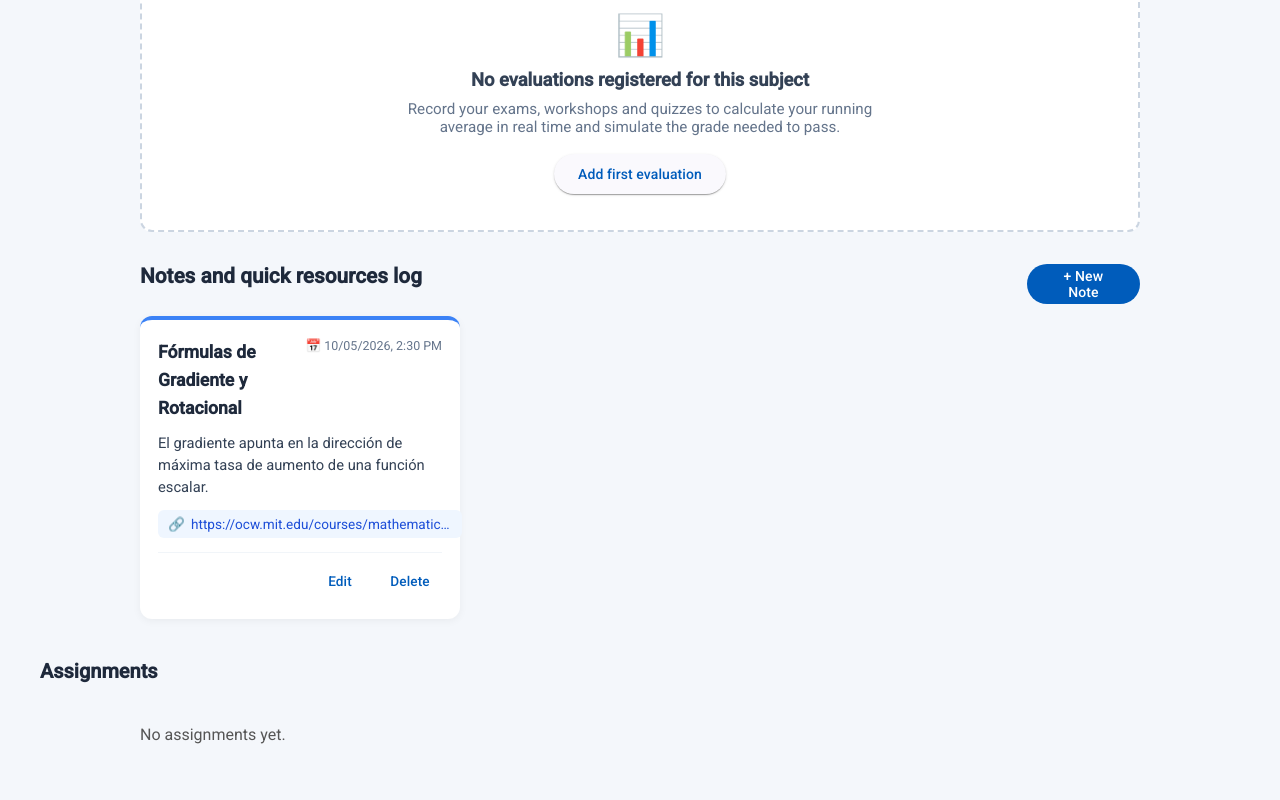
Test: F24: Bitácora de Apuntes y Recursos Rápidos por Asignatura (Frontend E2E, UI & a11y) › E2: Debería abrir el modal de edición y actualizar el contenido de un apunte existente
(page scrolled)
Check: the number of elements with class "note-card" is 1, box top-left (140, 316), bottom-right (460, 619)
Click the button "Edit" at (340, 581), box top-left (308, 561), bottom-right (372, 601)
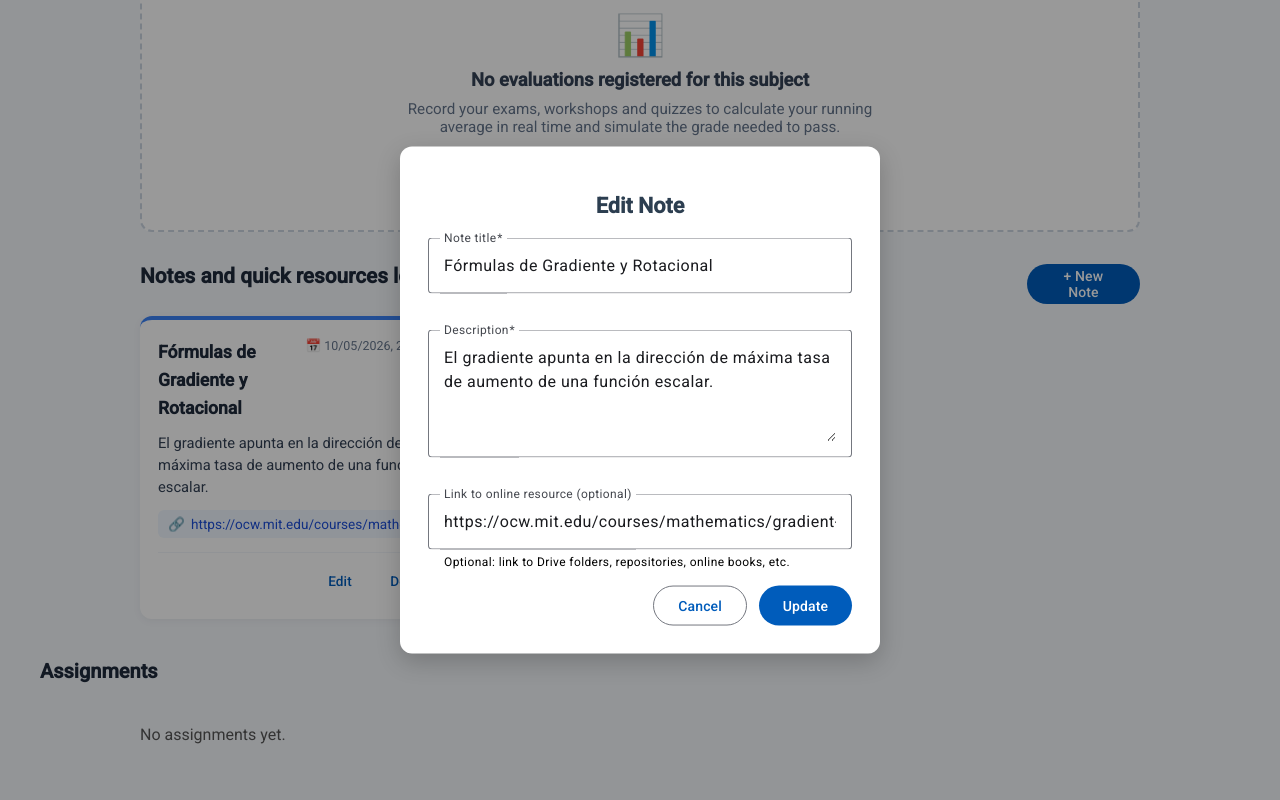
Check: the heading "Edit Note" is shown, box top-left (596, 192), bottom-right (684, 218)
Check: the field named "title" holds "Fórmulas de Gradiente y Rotacional", box top-left (444, 254), bottom-right (836, 278)
Replace the text in the text box named "content" with "Actualizado: Incluye el Teorema de Stokes y cálculo de flujo rotacional." at (640, 394), box top-left (444, 346), bottom-right (836, 442)
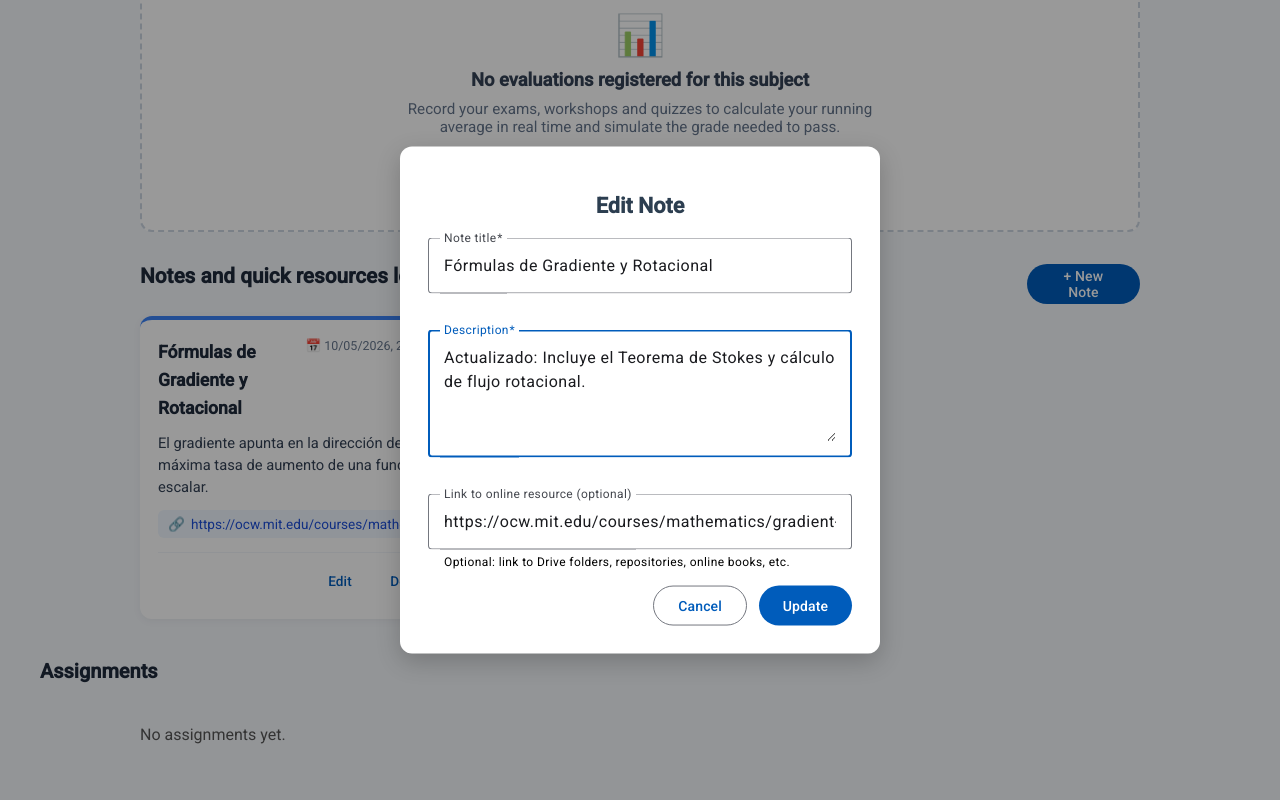
Click the submit button at (806, 606), box top-left (759, 586), bottom-right (852, 626)
(page scrolled)
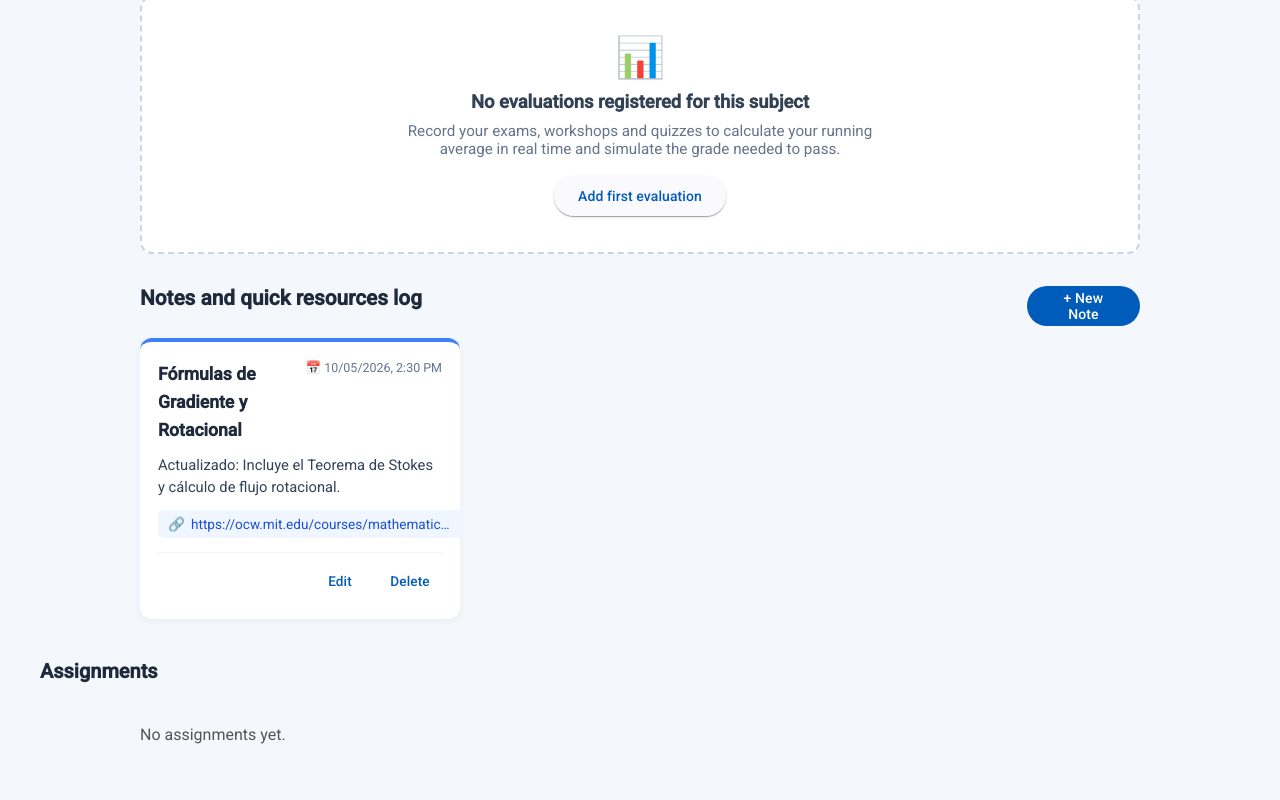
Check: the text with class "note-content" shows "Teorema de Stokes", box top-left (158, 454), bottom-right (442, 498)
